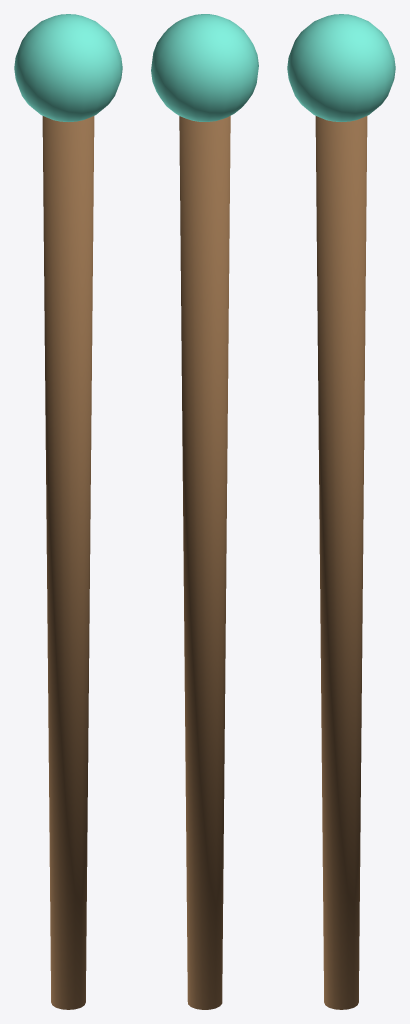
Rendered from staff.glb.
The picture shows the model from 3 angles, left to right: view 1: azimuth 90°, elevation 25°; view 2: azimuth 150°, elevation 25°; view 3: azimuth 270°, elevation 25°; orthographic projection.
Visible parts, largest first — view 1: staff; view 2: staff; view 3: staff.
Part boxes in pixels (x1,y1,x2,y2): staff: (14,14,122,1009); staff: (151,14,258,1009); staff: (287,14,395,1009).
Bounding box in the file's own units: 0.1 × 1 × 0.1.
